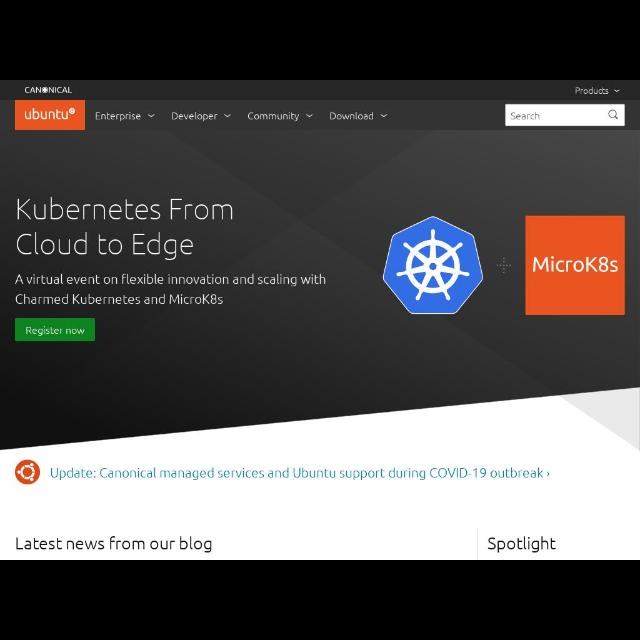backgroundimage: (1, 132, 639, 452)
icon: (608, 110, 618, 120), (146, 112, 156, 118), (222, 112, 232, 118), (304, 114, 314, 118), (380, 114, 388, 118), (614, 88, 620, 92)
image: (525, 216, 625, 316), (382, 216, 484, 314), (15, 101, 84, 131), (15, 460, 41, 484), (24, 86, 72, 94), (496, 258, 512, 274)
input: (505, 104, 625, 126)
multitab: (95, 110, 388, 122)
spinner: (94, 110, 156, 122), (247, 111, 313, 121), (171, 111, 231, 121), (329, 112, 387, 120), (575, 87, 621, 95)
text: (16, 196, 234, 262), (15, 274, 327, 306), (50, 467, 550, 481), (16, 536, 212, 554), (488, 537, 556, 553), (25, 326, 85, 336), (172, 110, 218, 122), (248, 112, 300, 122), (95, 111, 141, 121), (330, 112, 374, 120), (510, 111, 540, 121), (575, 87, 609, 95)
textbutton: (15, 318, 96, 342)
